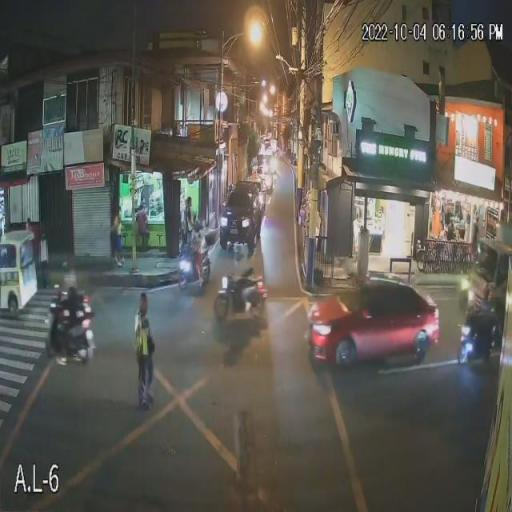helmet: (65, 272, 77, 286), (236, 245, 250, 257), (190, 230, 200, 240)
motorcycle: (47, 284, 95, 366), (213, 264, 269, 330), (456, 302, 502, 367), (176, 235, 212, 292)
rider: (54, 273, 88, 347), (466, 283, 498, 346), (230, 248, 258, 309), (181, 223, 206, 282)
